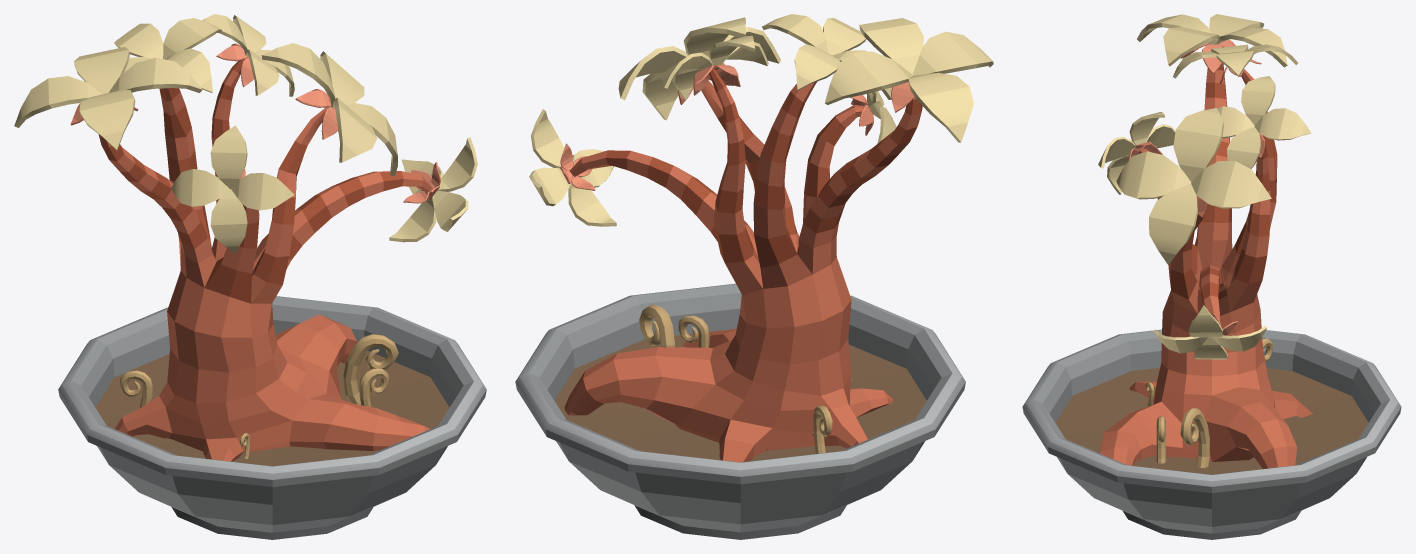
Rendered from RowanOpenPetalz.fbx.
3 renders of one model, left to right at view 1: azimuth 30°, elevation 25°; view 2: azimuth 150°, elevation 25°; view 3: azimuth 270°, elevation 25°, orthographic. The views are drawn at different scales.
Visible parts, largest first — view 1: pCube16; view 2: pCube16; view 3: pCube16.
Part boxes in pixels (bbox=[...]): pCube16: bbox=[14, 14, 486, 539]; pCube16: bbox=[515, 14, 993, 539]; pCube16: bbox=[1022, 14, 1401, 539].
Size of the model in its own units: 14.57 by 15.42 by 12.58.
1 material, 1 textured.
